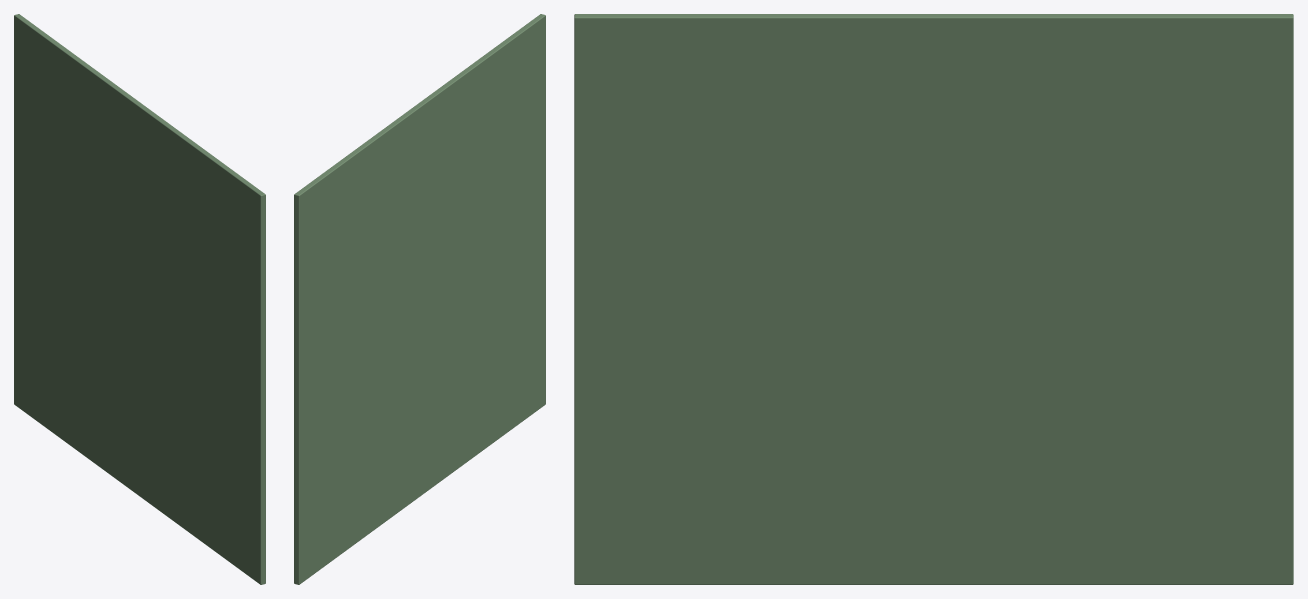
The model's file is SM_EG_Chilled_back_d0703c817e.fbx.
3 renders of one model, left to right at view 1: azimuth 30°, elevation 25°; view 2: azimuth 150°, elevation 25°; view 3: azimuth 270°, elevation 25°, orthographic. The views are drawn at different scales.
Parts seen in each view (by area): view 1: SM_EG_Chilled_back_d0703c817e; view 2: SM_EG_Chilled_back_d0703c817e; view 3: SM_EG_Chilled_back_d0703c817e.
Part boxes in pixels (box(x1,y1,x2,y2)): SM_EG_Chilled_back_d0703c817e: box(14, 14, 265, 584); SM_EG_Chilled_back_d0703c817e: box(294, 14, 545, 584); SM_EG_Chilled_back_d0703c817e: box(574, 14, 1293, 584).
Size of what is drawn, in the model's own units: 4 by 310 by 270.
